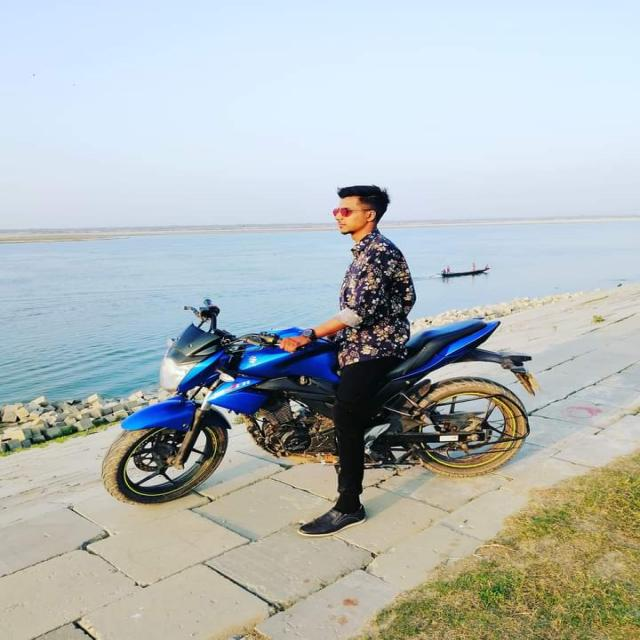Not Wearing Helmet: (293, 169, 471, 254)
